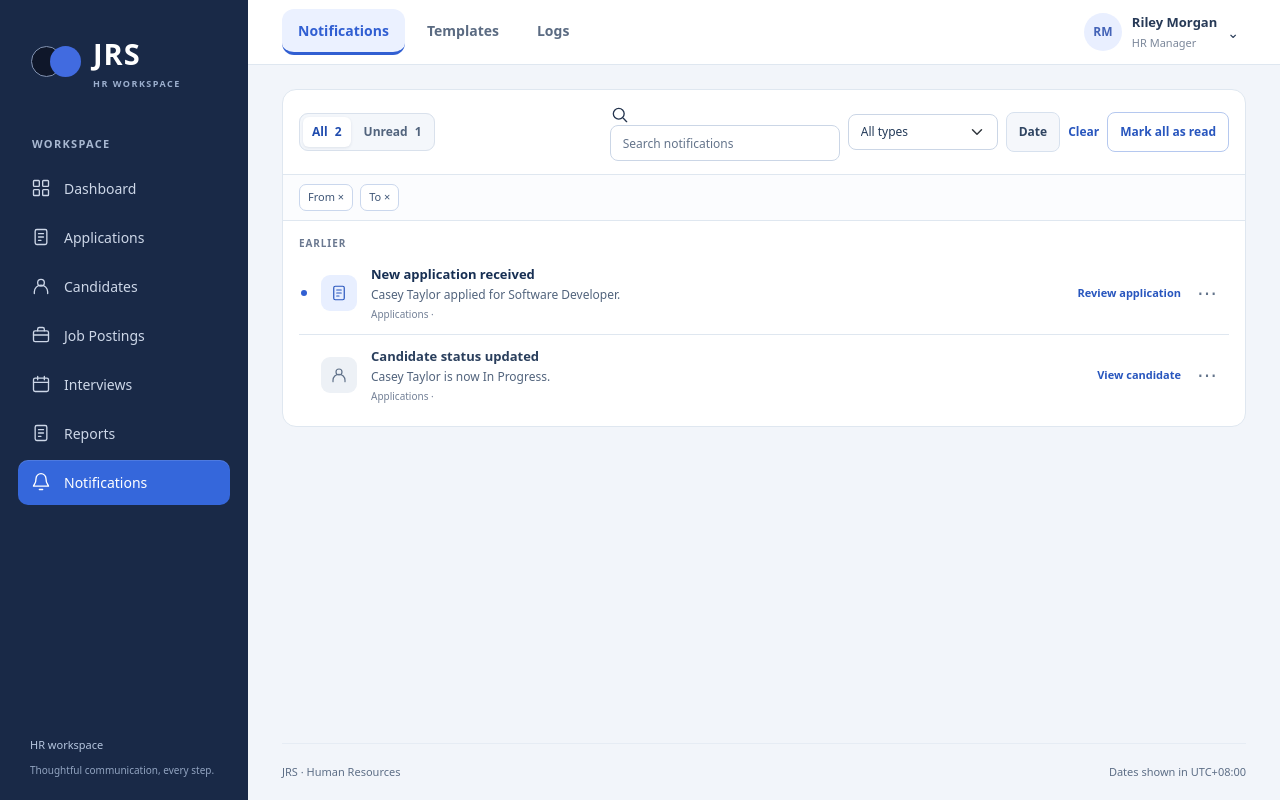
Test: authentication and navigation › keeps profile access in the avatar menu and makes every workspace item navigable
Check: the link "My Profile" is not shown
Check: the link "Dashboard" is shown, box x1=31 y1=178 x2=136 y2=198
Step 1. Click the button "RM Riley Morgan HR Manager ⌄" → (1161, 32), box x1=1077 y1=8 x2=1246 y2=56
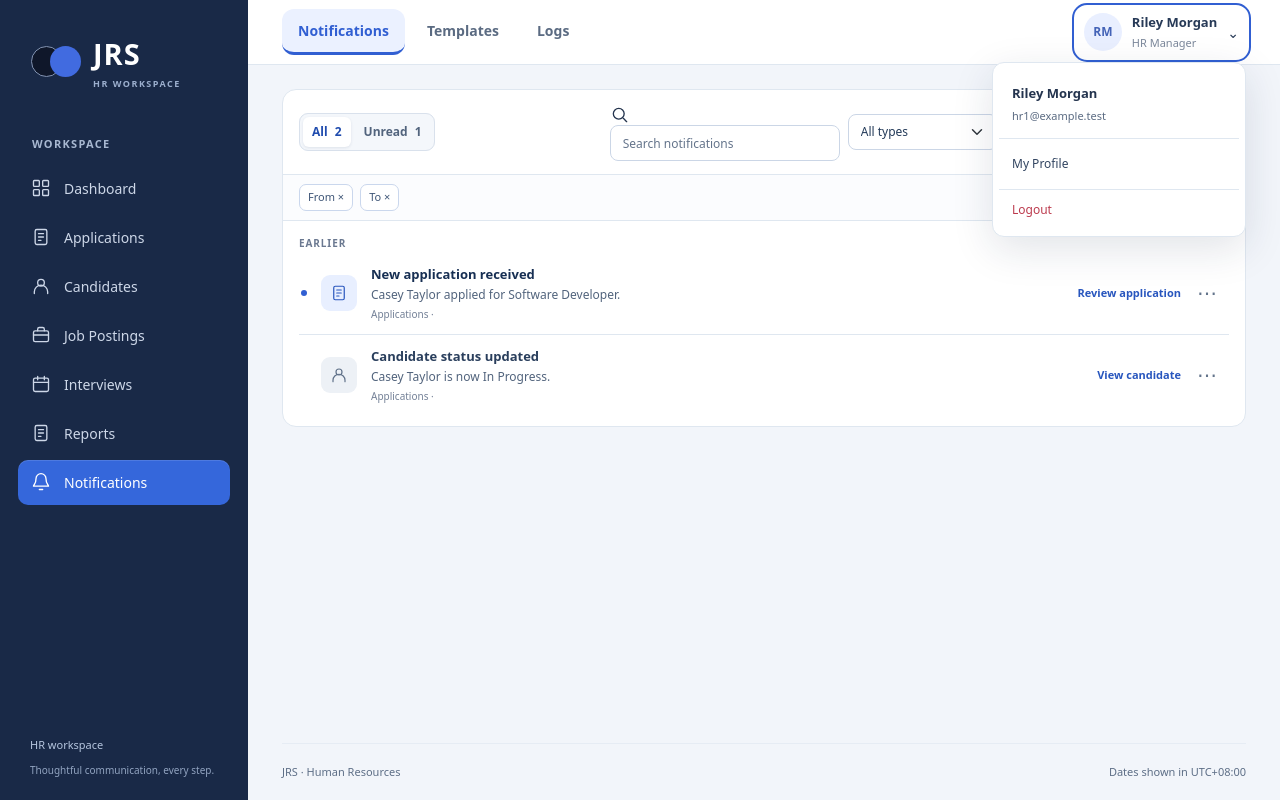
Check: the link "My Profile" is shown, box x1=1012 y1=154 x2=1068 y2=172
